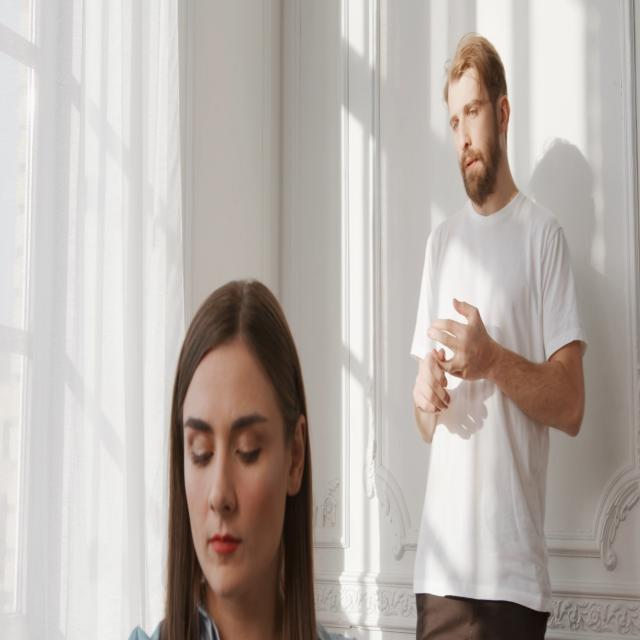confused: (436, 31, 532, 210)
sad: (179, 349, 298, 614)
